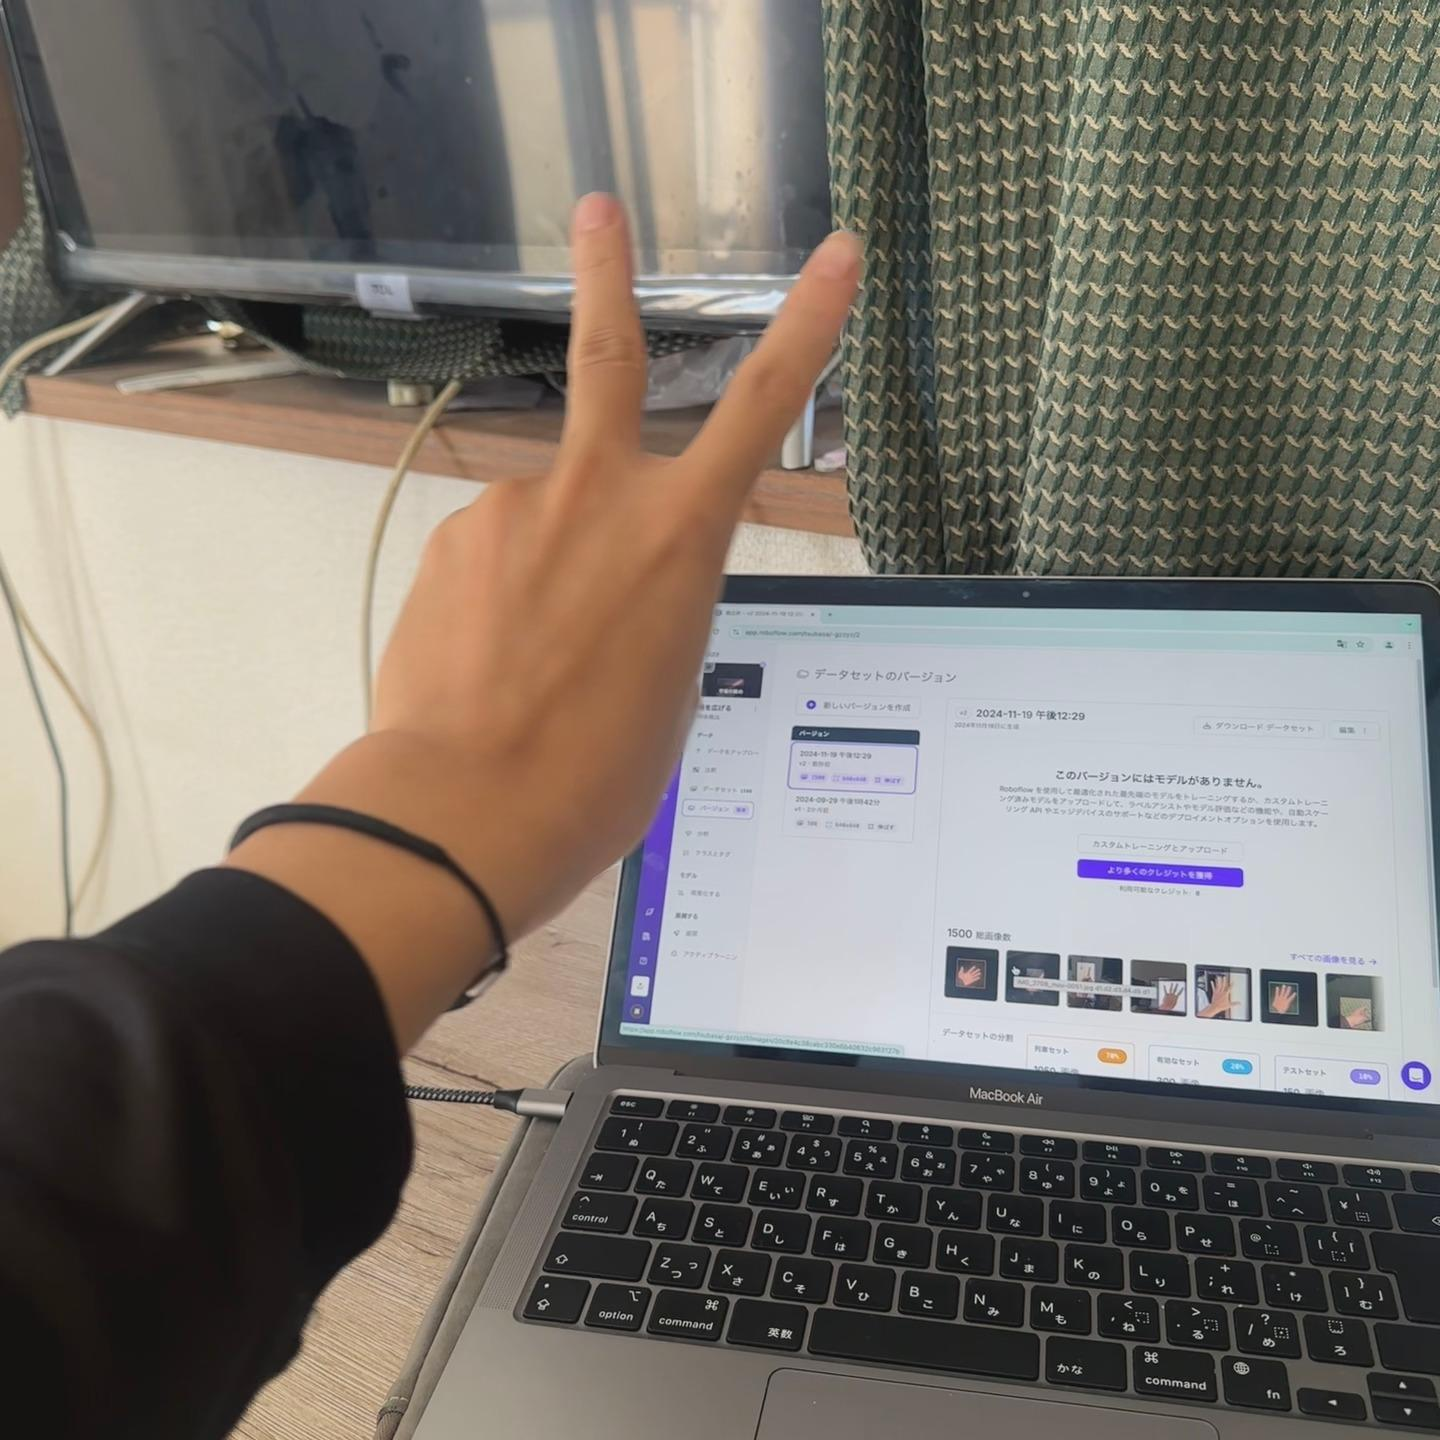without_gloves: (353, 148, 972, 910)
